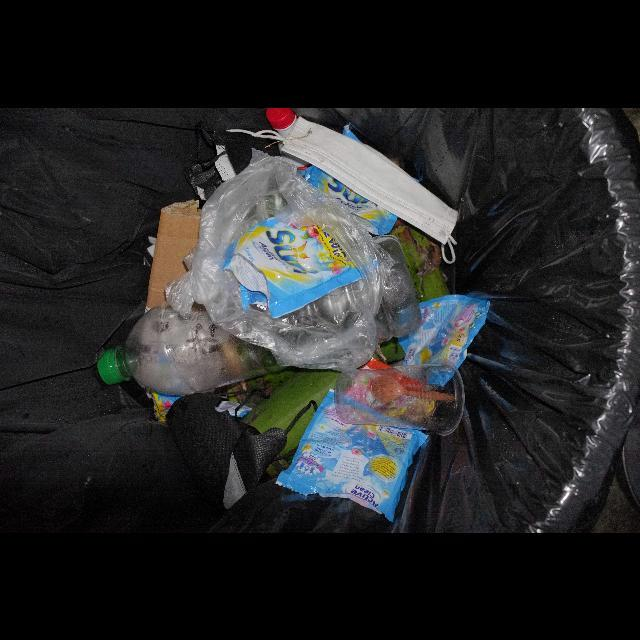cardboard: (145, 198, 202, 313)
plastic_bag: (165, 156, 380, 371)
plastic_bottle: (97, 299, 289, 394)
plastic_sachet: (276, 388, 429, 521), (230, 216, 362, 318), (398, 294, 491, 387)
